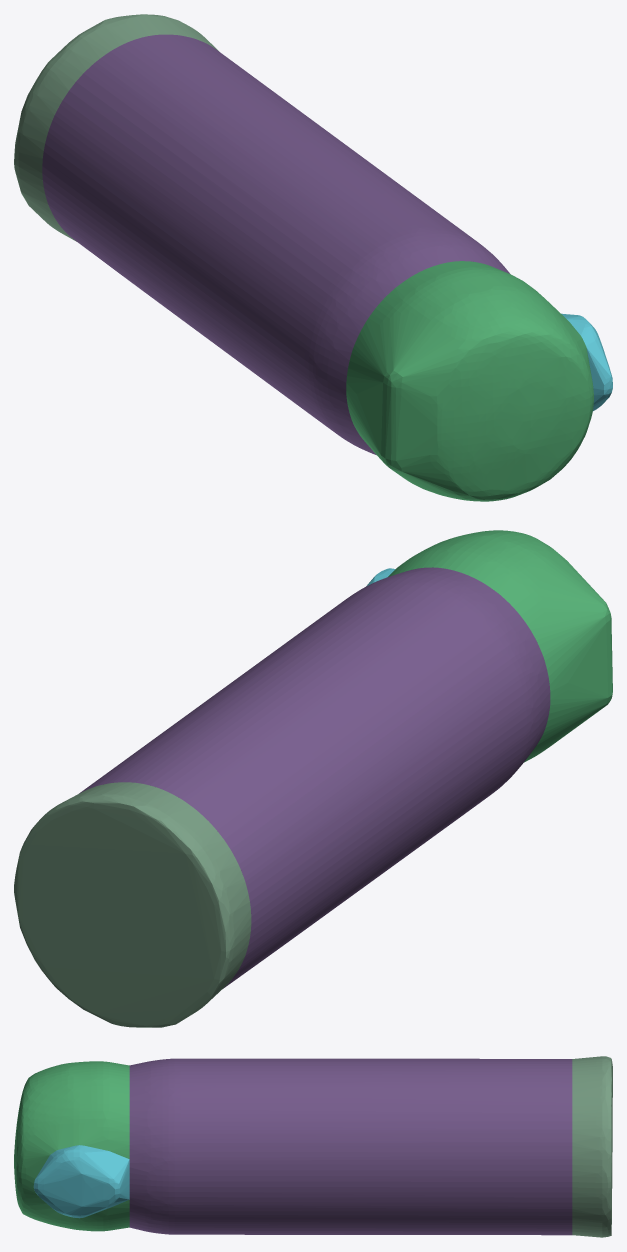
Rendered from coacd_collision.obj.
3 views of the same model, one above another, from view 1: azimuth 30°, elevation 25°; view 2: azimuth 150°, elevation 25°; view 3: azimuth 270°, elevation 25° (orthographic). The views are drawn at different scales.
Visible parts, largest first — view 1: geometry_1, geometry_3, geometry_0, geometry_2; view 2: geometry_1, geometry_0, geometry_3; view 3: geometry_1, geometry_3, geometry_0, geometry_2.
Part boxes in pixels (<box>): geometry_1: <box>42,34,509,454</box>; geometry_3: <box>346,261,593,501</box>; geometry_0: <box>14,14,219,241</box>; geometry_2: <box>561,313,612,411</box>; geometry_1: <box>79,567,550,988</box>; geometry_0: <box>14,782,251,1027</box>; geometry_3: <box>388,530,612,762</box>; geometry_1: <box>129,1058,572,1235</box>; geometry_3: <box>14,1061,129,1231</box>; geometry_0: <box>572,1056,612,1237</box>; geometry_2: <box>33,1145,129,1218</box>.
Bounding box in the file's own units: 74.66 × 68.32 × 226.
